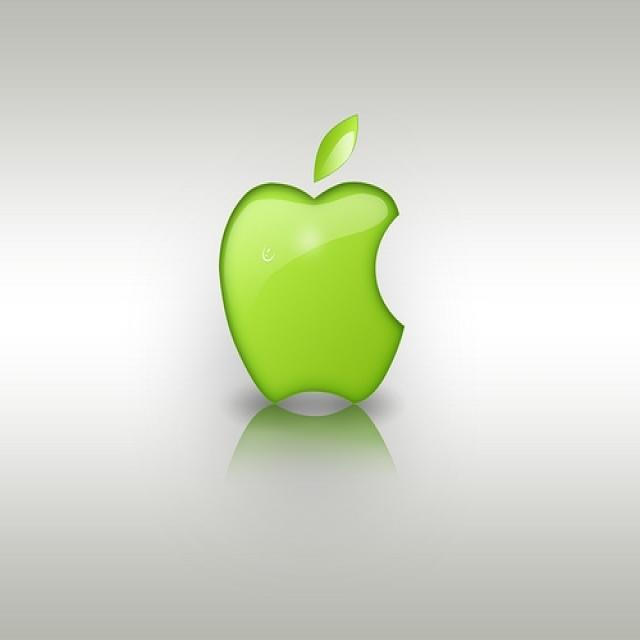apple: (209, 102, 419, 411)
